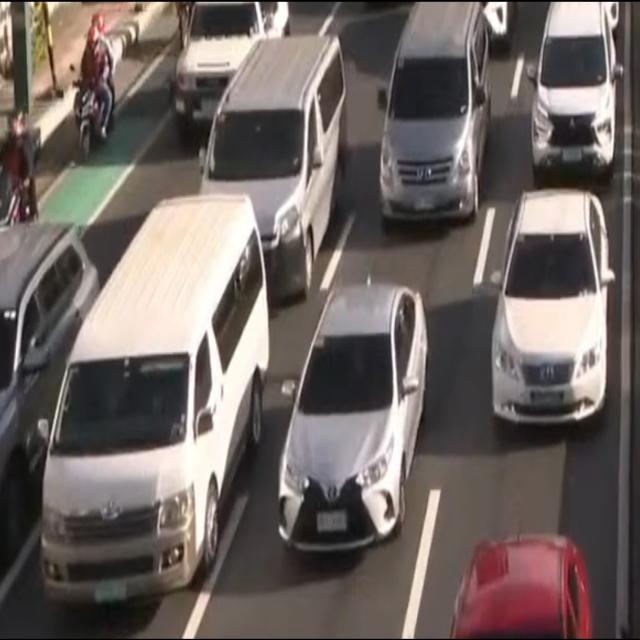Motorcycle: (72, 16, 113, 151), (0, 104, 38, 225)
SUV: (0, 215, 94, 532), (174, 0, 294, 153), (529, 0, 617, 172)
Sedan: (282, 287, 426, 544), (492, 185, 608, 431), (452, 532, 590, 640)
Van: (44, 189, 269, 602), (191, 35, 346, 289), (384, 8, 489, 222)
